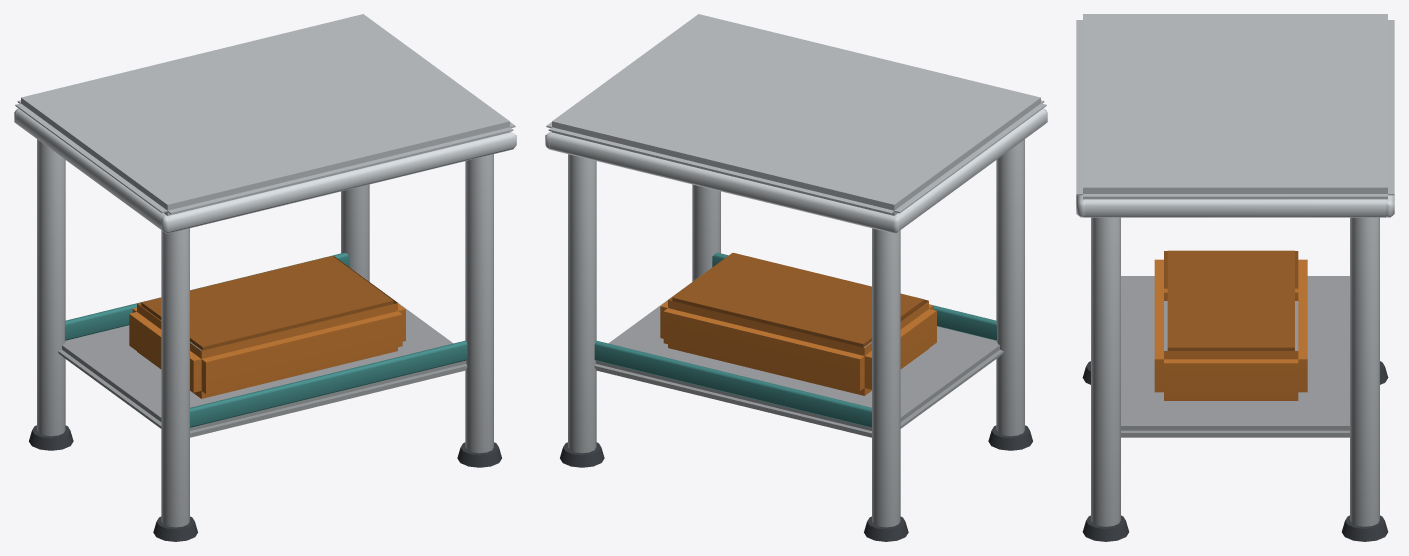
Rendered from SM_WorkTable_10.glb.
The picture shows the model from 3 angles, left to right: view 1: azimuth 30°, elevation 25°; view 2: azimuth 150°, elevation 25°; view 3: azimuth 270°, elevation 25°; orthographic projection. The views are drawn at different scales.
Visible parts, largest first — view 1: SM_WorkTable_10; view 2: SM_WorkTable_10; view 3: SM_WorkTable_10.
Part boxes in pixels (box(x1,y1,x2,y2)): SM_WorkTable_10: box(14, 14, 516, 541); SM_WorkTable_10: box(545, 14, 1047, 541); SM_WorkTable_10: box(1076, 14, 1394, 541).
Bounding box in the file's own units: 1 × 0.92 × 0.75.
1 material, 1 textured.
